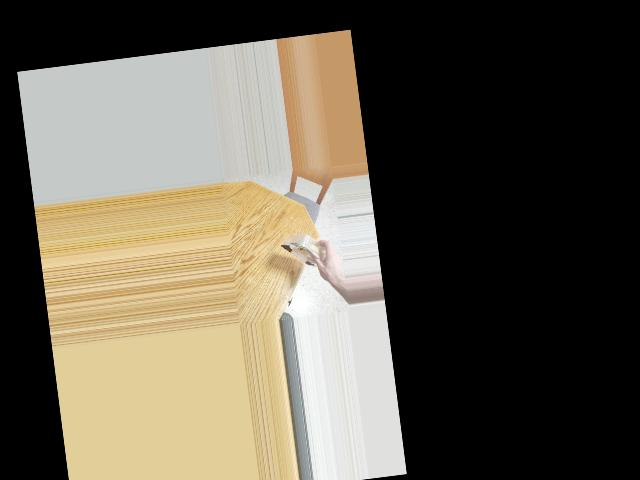cheese: (284, 221, 329, 275)
